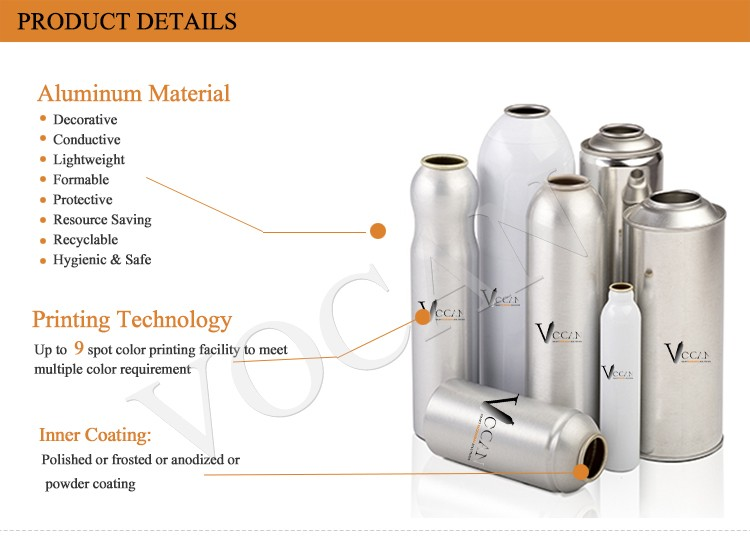Aerosol_cans: (474, 96, 581, 402), (619, 187, 728, 465), (418, 374, 610, 498), (522, 170, 612, 420), (406, 150, 486, 386), (594, 278, 644, 474)
